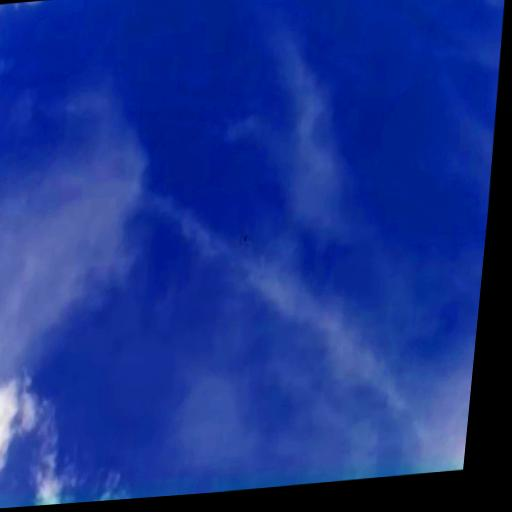drones: (236, 227, 254, 252)
